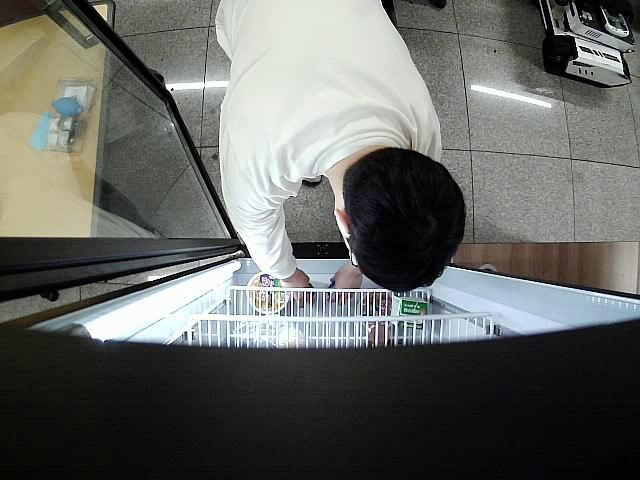00_hand: (328, 264, 362, 305), (283, 269, 316, 308)
